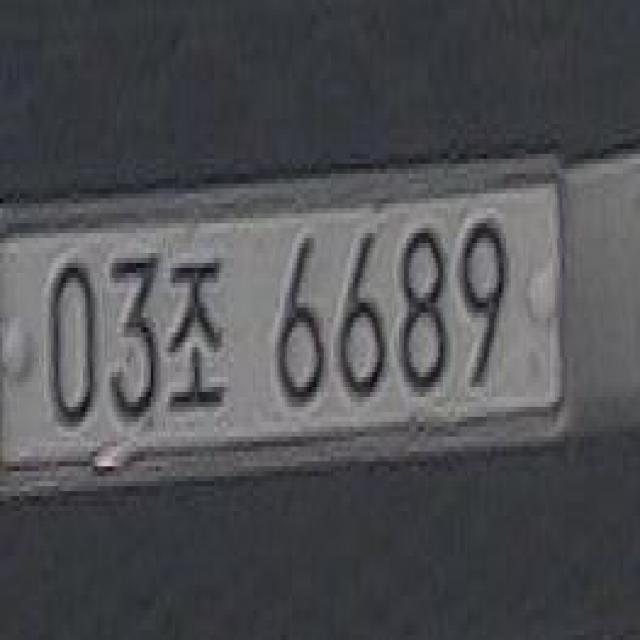illegal_plate: (4, 153, 574, 491)
